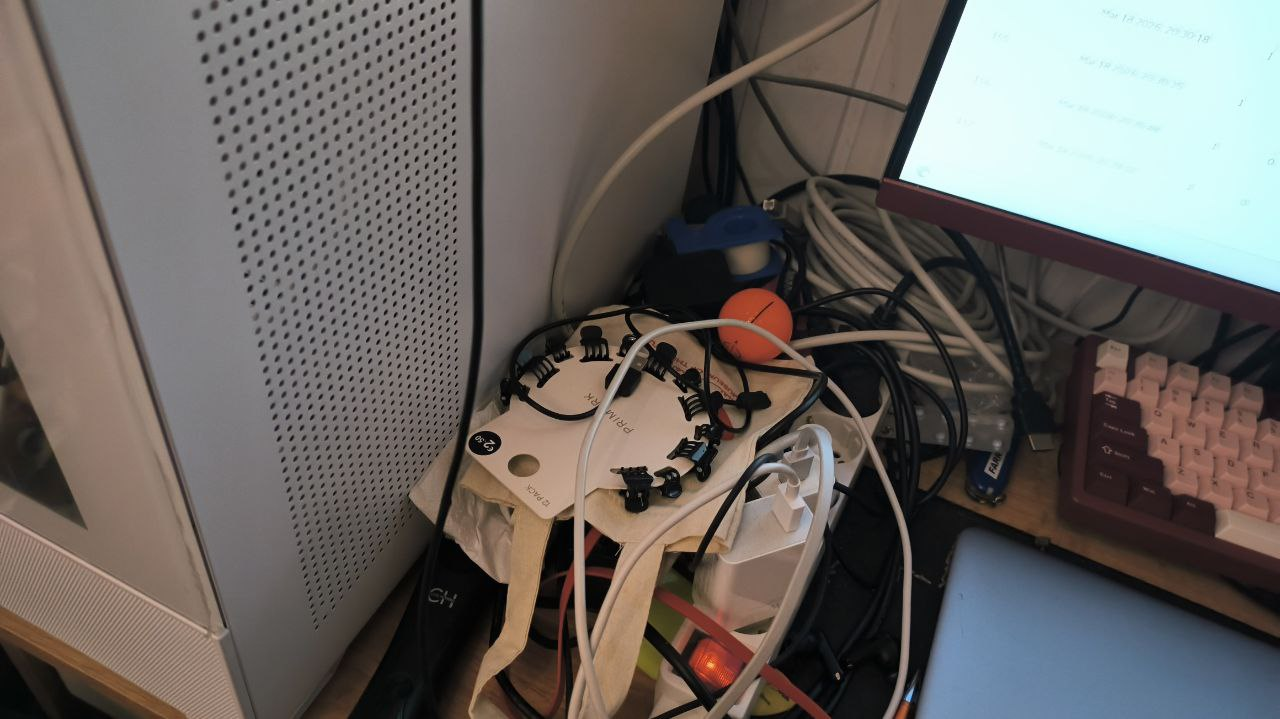orange_ball: (717, 288, 793, 364)
